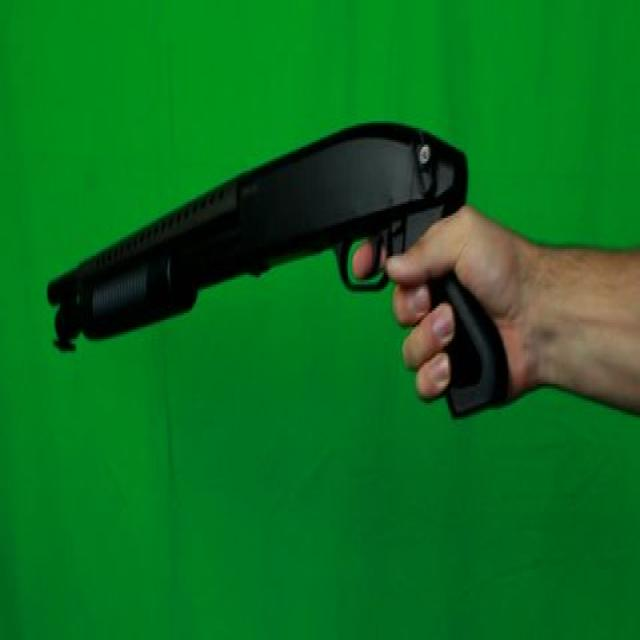ShotGun: (47, 123, 509, 420)
